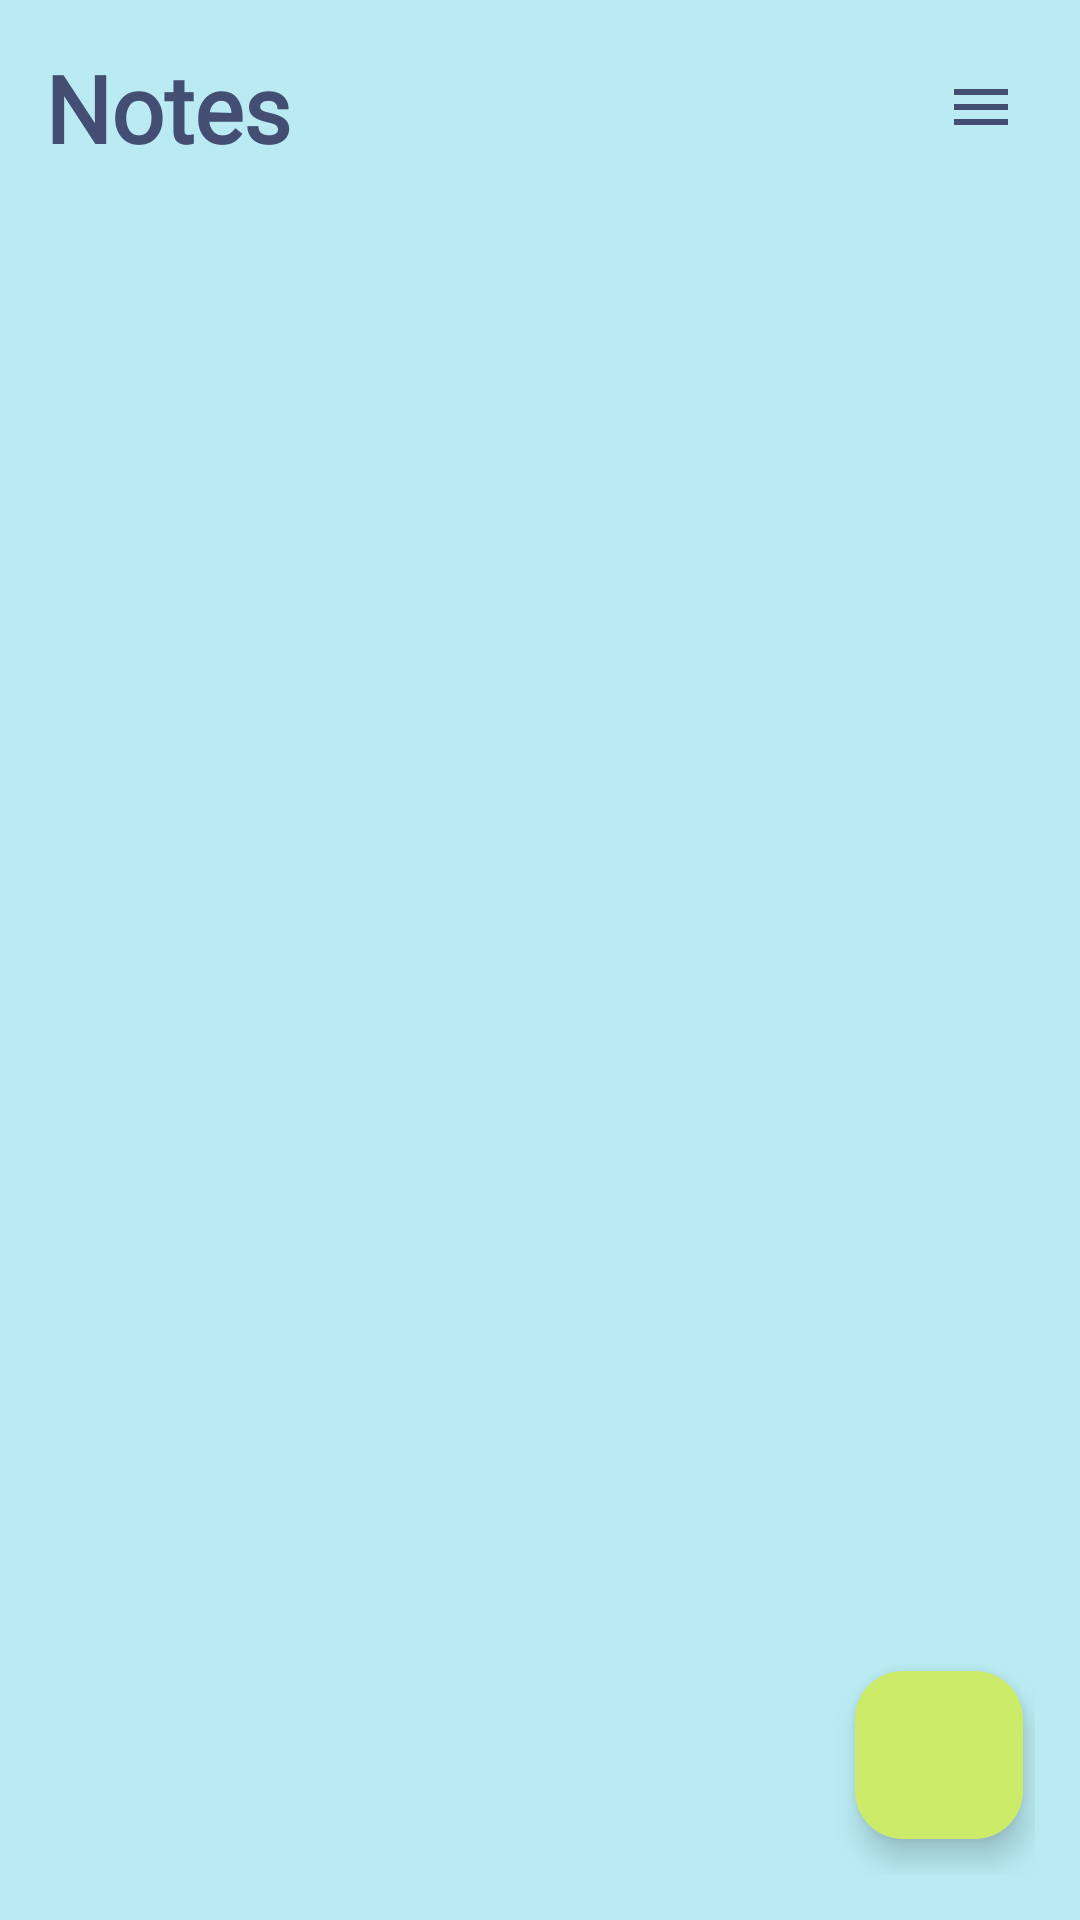

Screen size 1080w x 1920h. Icon name, then its center in pixels as [x,y]:
menu: [981,107]
